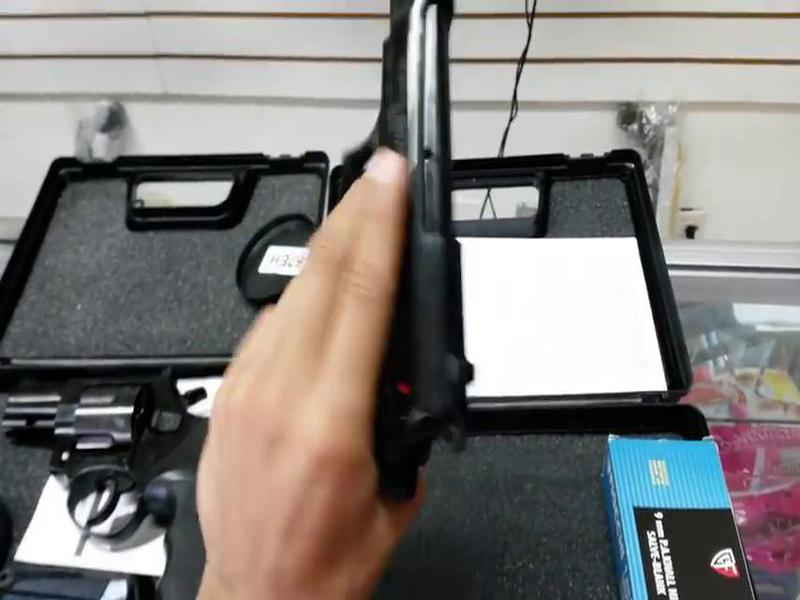Pistola: (224, 1, 490, 504)
